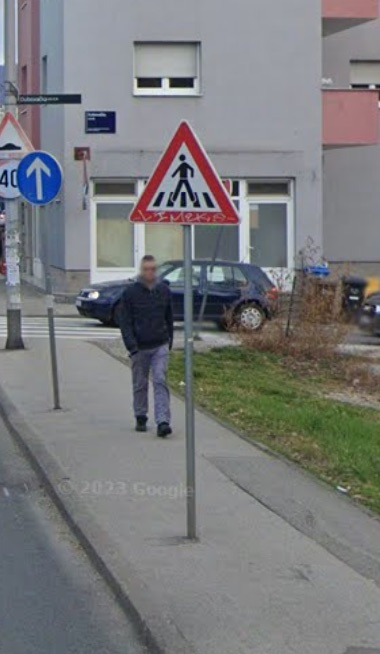Približavanje pješačkom prijelazu: (129, 119, 241, 225)
